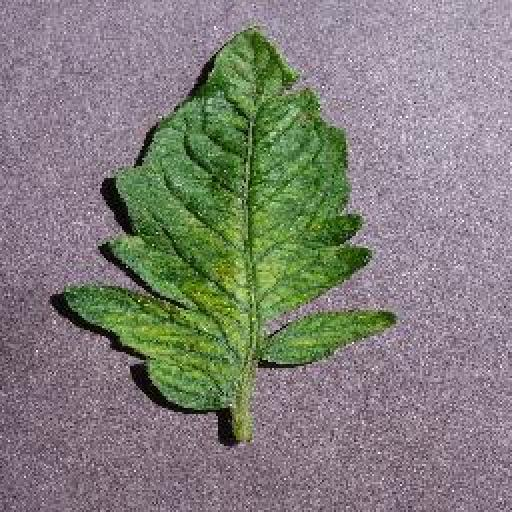Mosaic Virus: (62, 25, 398, 412)
